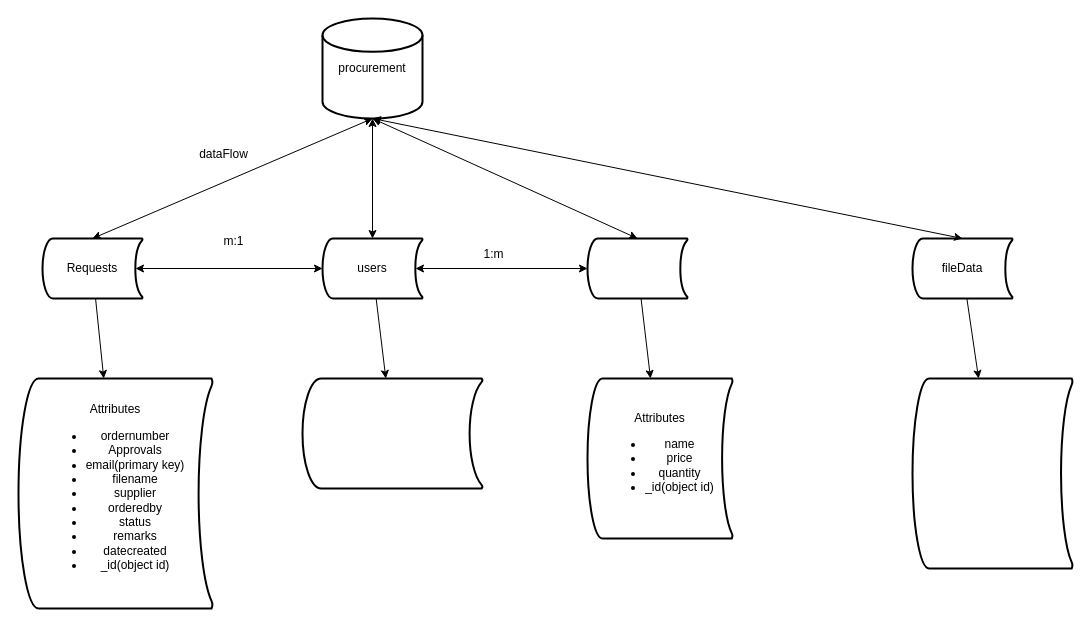
This 1090x626 diagram has some shape labels left out. The shapes that lost their labels are listed below. From the top down, each one's centre as x and y in pixels, then its label:
the point at 637,268: products
the point at 392,433: Atributes name email(primary key) password role _id(object id)
the point at 992,473: Attributes storedName filename url uplaodedat _id(object id)
